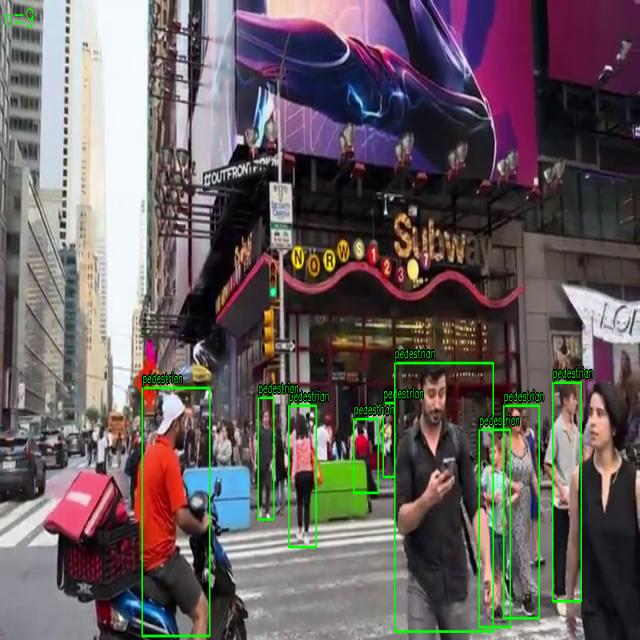with scooter: (394, 363, 494, 632), (142, 388, 210, 636), (504, 405, 540, 619), (552, 382, 582, 602), (479, 430, 511, 628), (288, 406, 316, 548), (258, 397, 274, 520), (354, 419, 378, 493), (383, 403, 395, 477)
